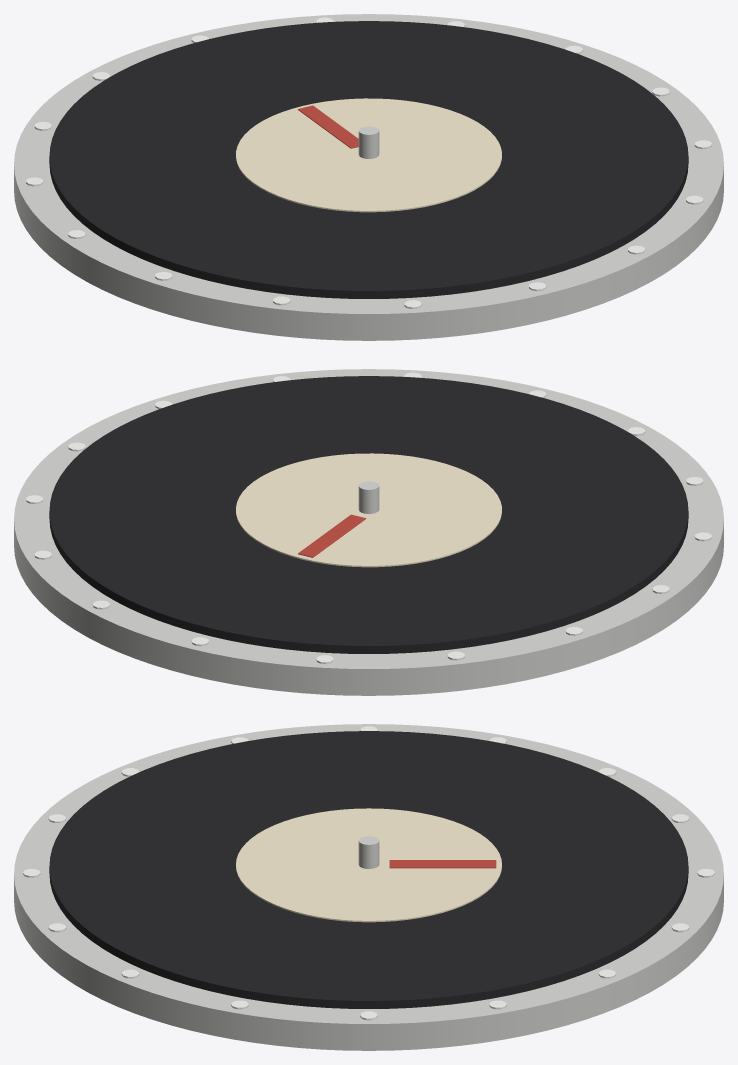
The model's file is platter_disc.glb.
3 views of the same model, one above another, from view 1: azimuth 30°, elevation 25°; view 2: azimuth 150°, elevation 25°; view 3: azimuth 270°, elevation 25° (orthographic).
Parts seen in each view (by area): view 1: PlatterDisc; view 2: PlatterDisc; view 3: PlatterDisc.
Boxes of the visible parts, <box> form: PlatterDisc: <box>14,14,723,340</box>; PlatterDisc: <box>14,369,723,695</box>; PlatterDisc: <box>14,724,723,1050</box>.
Bounding box in the file's own units: 0.24 × 0.0225 × 0.24.
